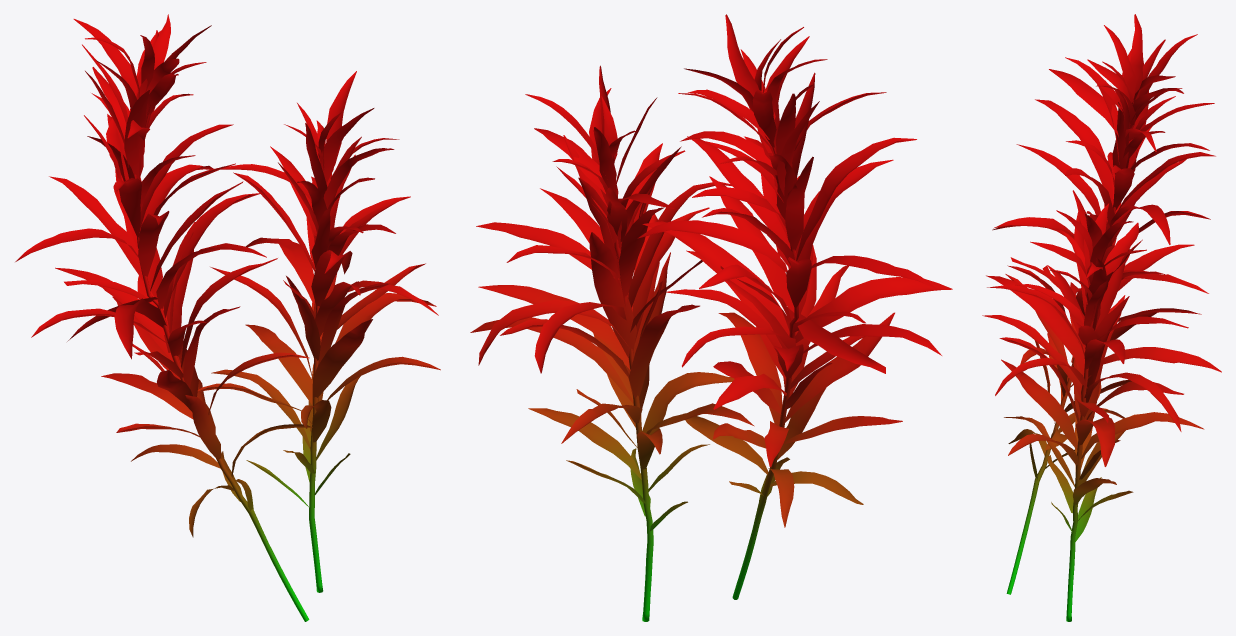
Rendered from Butterfly Weed_LOD0_Var9.fbx.
3 views of the same model, side by side, from view 1: azimuth 30°, elevation 25°; view 2: azimuth 150°, elevation 25°; view 3: azimuth 270°, elevation 25° (orthographic). The views are drawn at different scales.
Parts seen in each view (by area): view 1: _mjr0_Var9_LOD0; view 2: _mjr0_Var9_LOD0; view 3: _mjr0_Var9_LOD0.
Part boxes in pixels (box(x1,y1,x2,y2)): _mjr0_Var9_LOD0: box(15, 14, 440, 621); _mjr0_Var9_LOD0: box(470, 14, 952, 621); _mjr0_Var9_LOD0: box(982, 14, 1221, 621).
Bounding box in the file's own units: 53.23 × 70.51 × 29.29.
